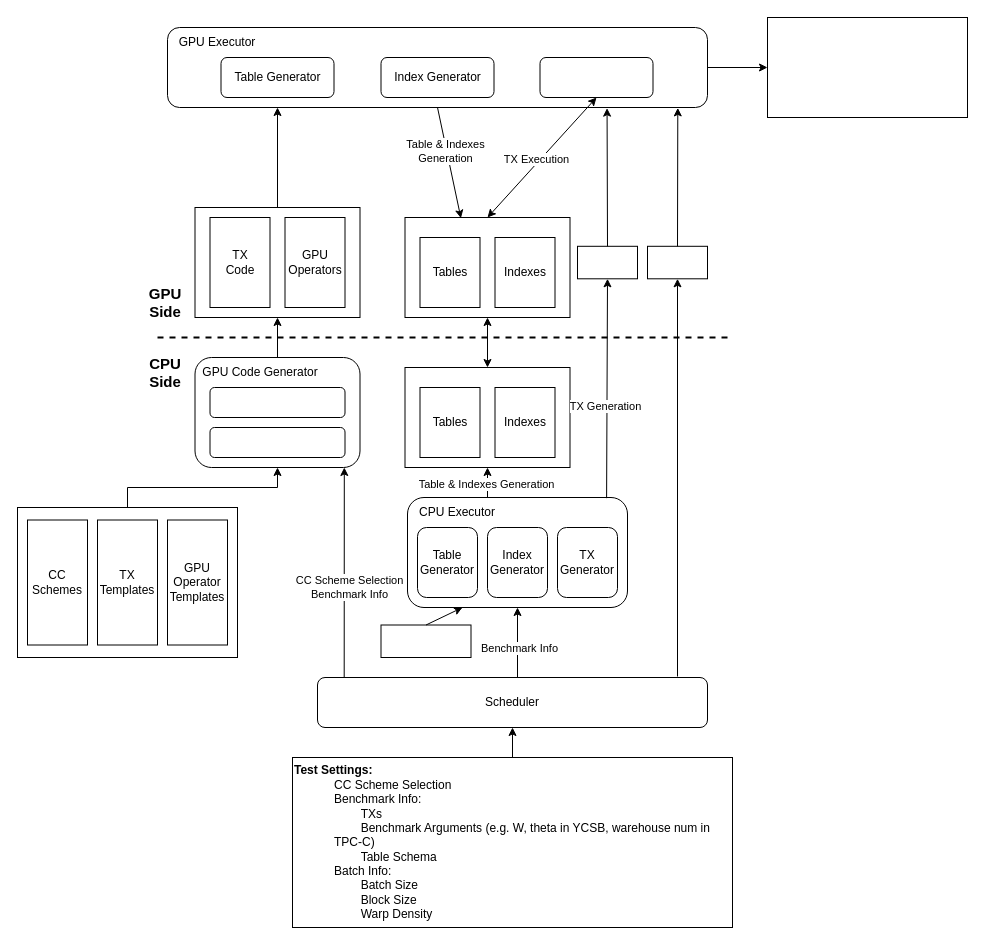
Image size: 985x945. Some labels were removed from this diagram. The shapes that lost their labels are listed below. From the top down, each one's centre as x and y in pixels, then its label:
point 596,77: TX Processor
point 867,67: Performance Info : Throughput Abort Rate Execution Time
point 607,262: TXs
point 677,262: Batch Info
point 277,402: NVRTC
point 277,442: Code Constructor
point 425,641: CPU Operators
